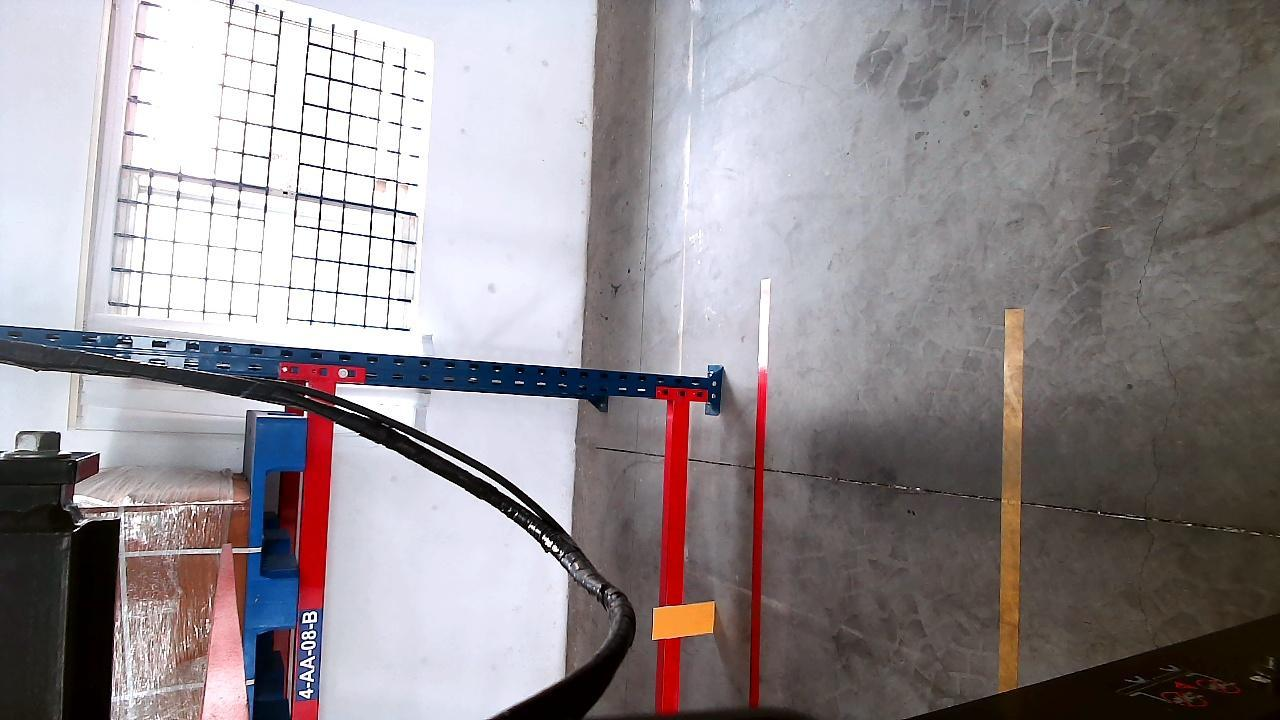red_line: (746, 278, 768, 711)
yellow_line: (998, 305, 1027, 695)
